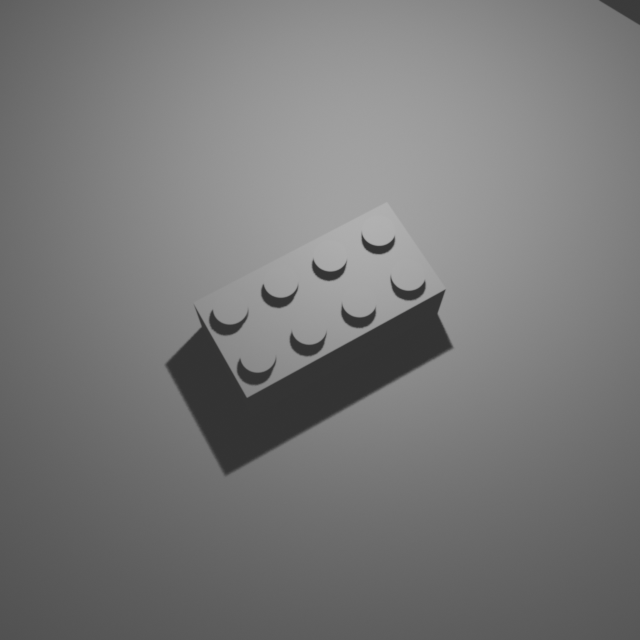lego_2x4: (192, 197, 448, 416)
